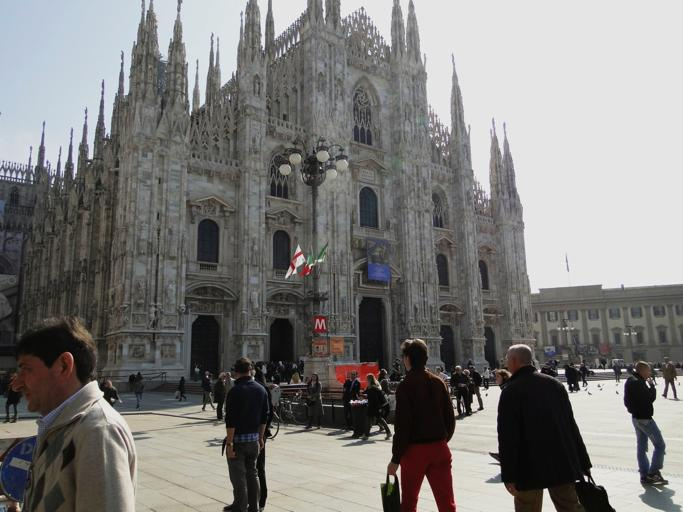non-vehicle: (270, 388, 313, 426), (263, 407, 280, 440), (445, 393, 464, 419)
